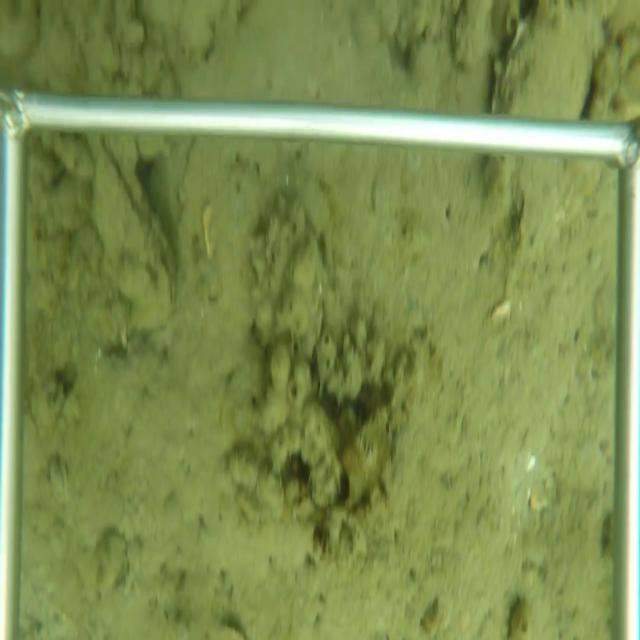Oyster-Closed: (92, 144, 179, 335), (488, 6, 608, 121)
